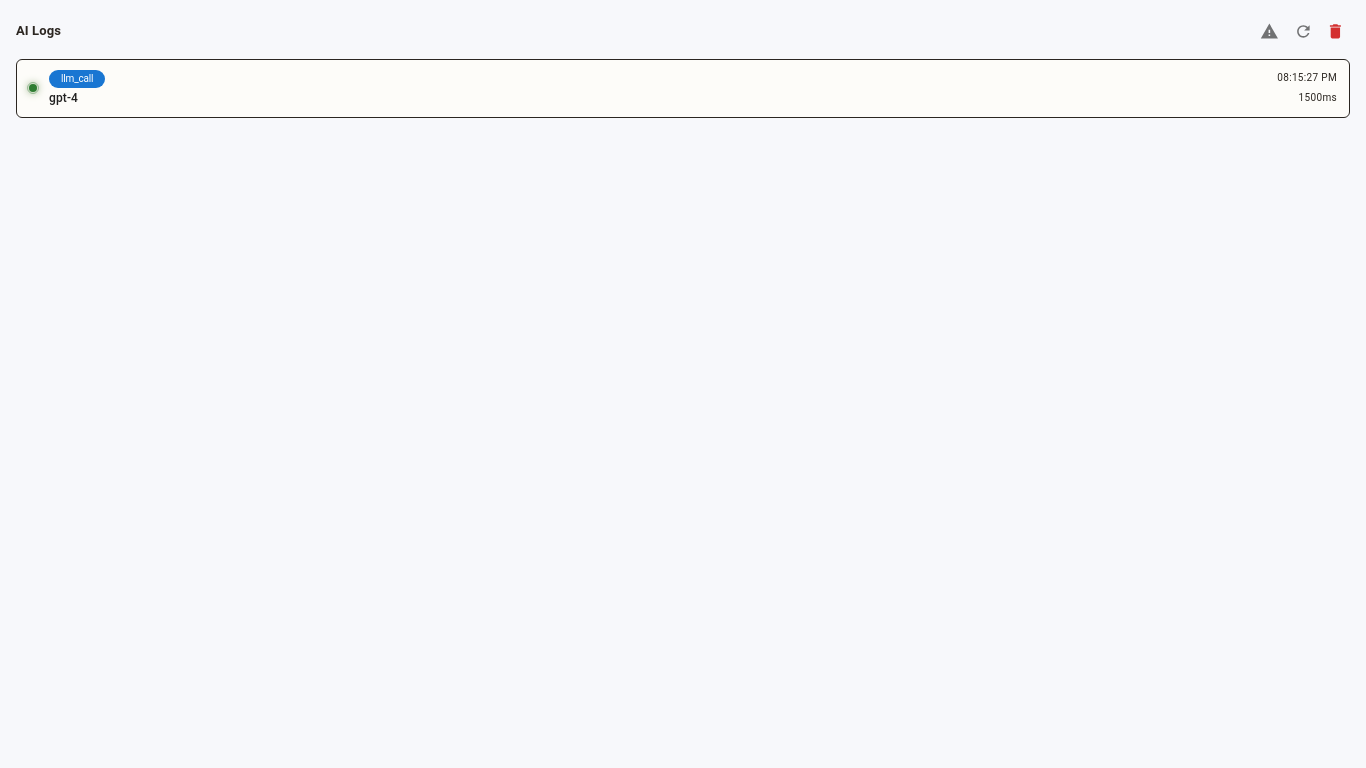
it: AiLogsView › clear button shows confirmation dialog and clears logs on confirm
Click the button with test id "ai-logs-clear" at (1336, 31), box [1321,17,1350,46]
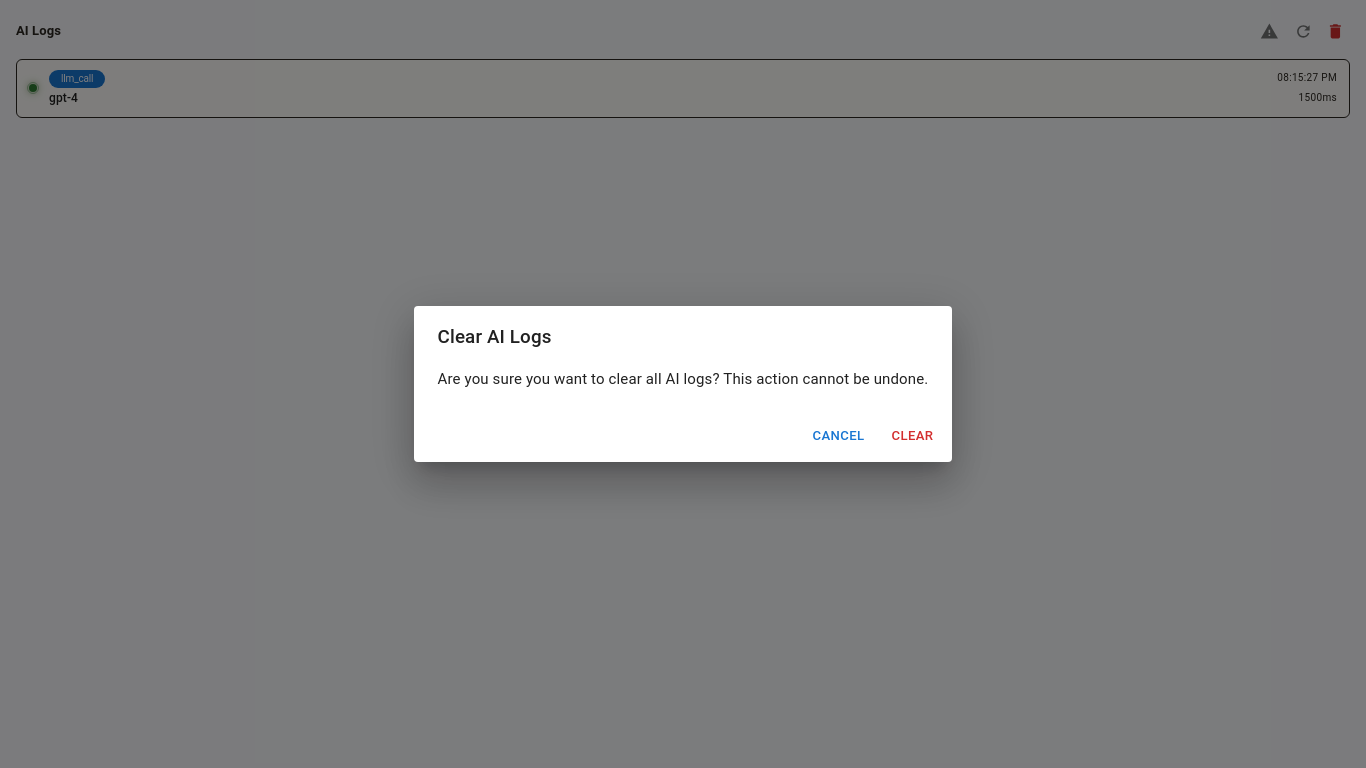
Expected: the element with test id "confirm-dialog" is shown
Click the button with test id "confirm-dialog-confirm" at (912, 436), box [880,419,944,454]
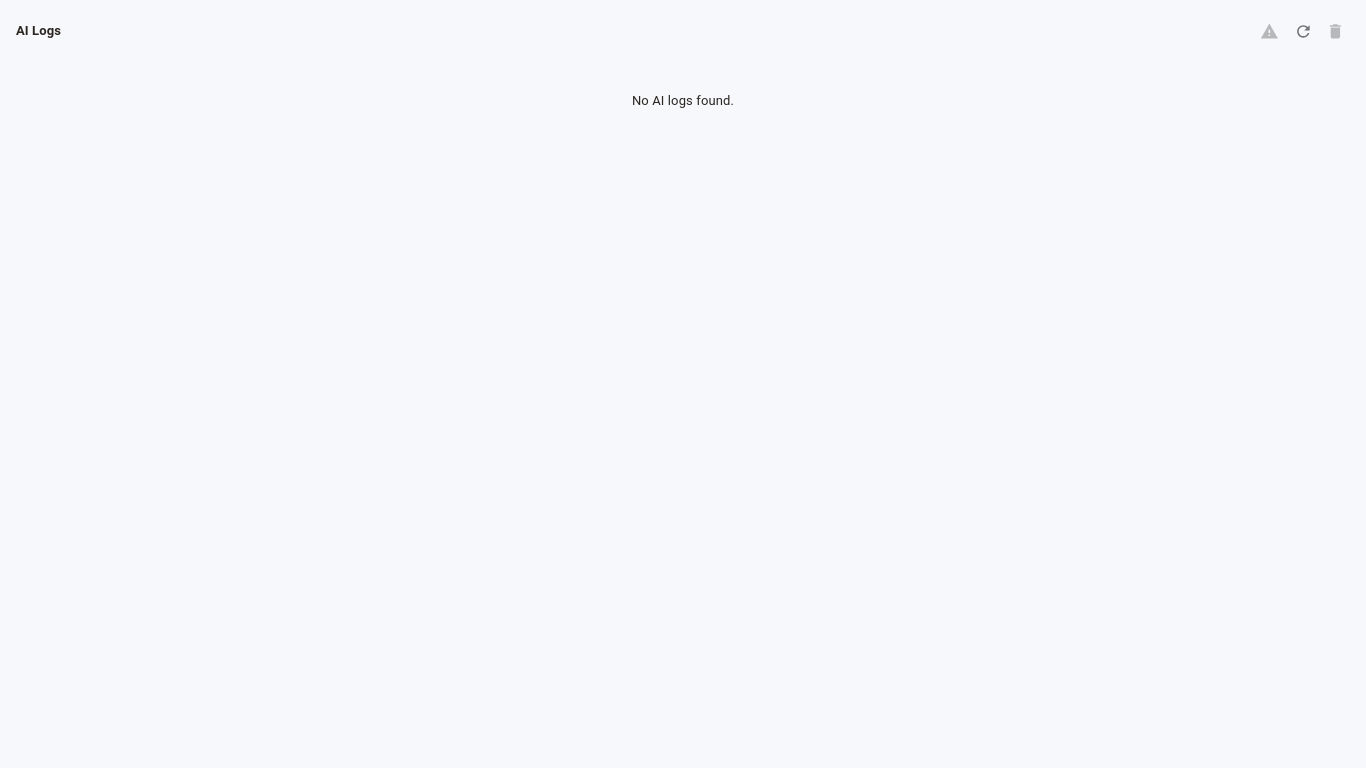
Expected: the element with test id "ai-logs-empty" is shown, [632,93,734,108]
